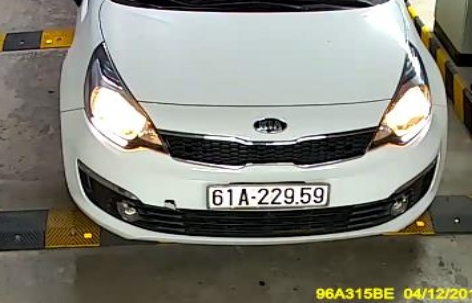plate: (195, 178, 335, 214)
